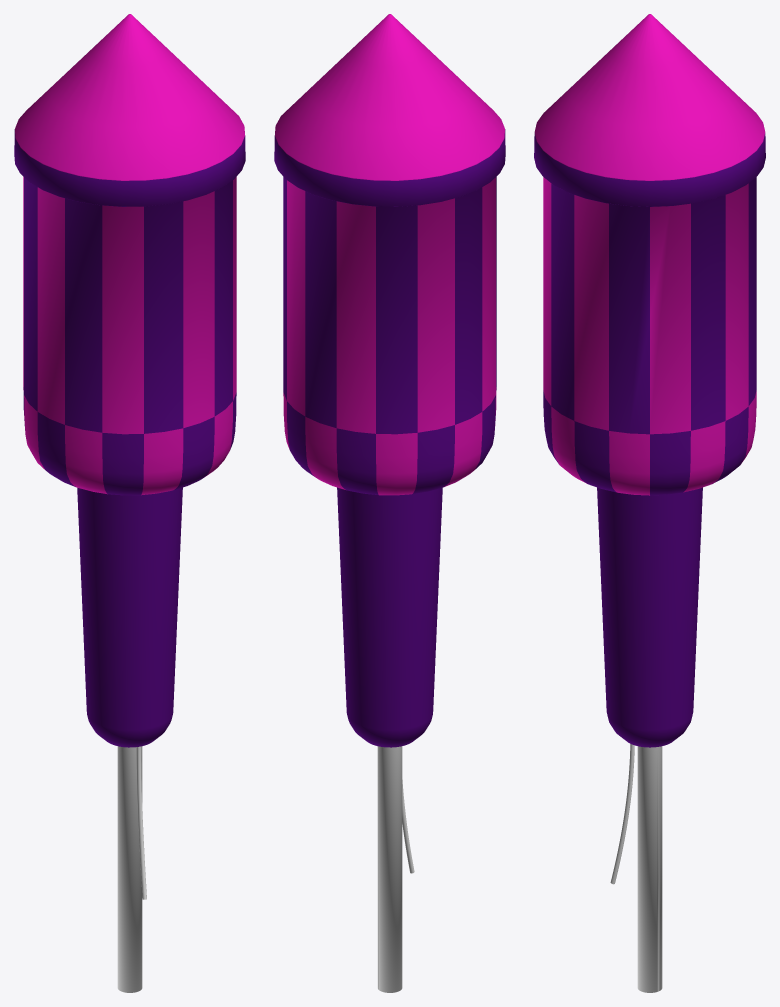
3 views of the same model, side by side, from view 1: azimuth 30°, elevation 25°; view 2: azimuth 150°, elevation 25°; view 3: azimuth 270°, elevation 25° (orthographic).
Visible parts, largest first — view 1: Roket1.003; view 2: Roket1.003; view 3: Roket1.003.
Boxes of the visible parts, x1,y1,x2,y2 form: Roket1.003: (14, 14, 245, 992); Roket1.003: (274, 14, 505, 992); Roket1.003: (534, 14, 765, 992).
Size of the model in its own units: 204 by 943 by 204.
